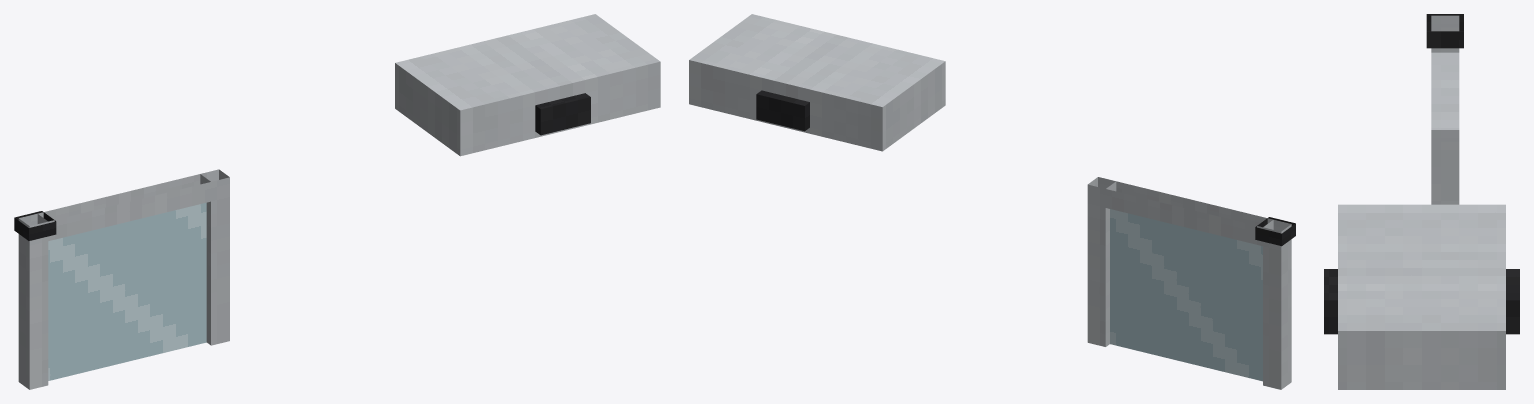
File: auto_door_tele_slider_clear_c1_upper_left_open.obj
The picture shows the model from 3 angles, left to right: view 1: azimuth 30°, elevation 25°; view 2: azimuth 150°, elevation 25°; view 3: azimuth 270°, elevation 25°; orthographic projection. The views are drawn at different scales.
Visible parts, largest first — view 1: auto_door_tele_slider_clear_c1_upper_left_open; view 2: auto_door_tele_slider_clear_c1_upper_left_open; view 3: auto_door_tele_slider_clear_c1_upper_left_open.
Boxes of the visible parts, <box> form: auto_door_tele_slider_clear_c1_upper_left_open: <box>14,14,660,389</box>; auto_door_tele_slider_clear_c1_upper_left_open: <box>689,14,1295,389</box>; auto_door_tele_slider_clear_c1_upper_left_open: <box>1324,14,1519,389</box>.
Bounding box in the file's own units: 2.98 × 1 × 0.6562.
